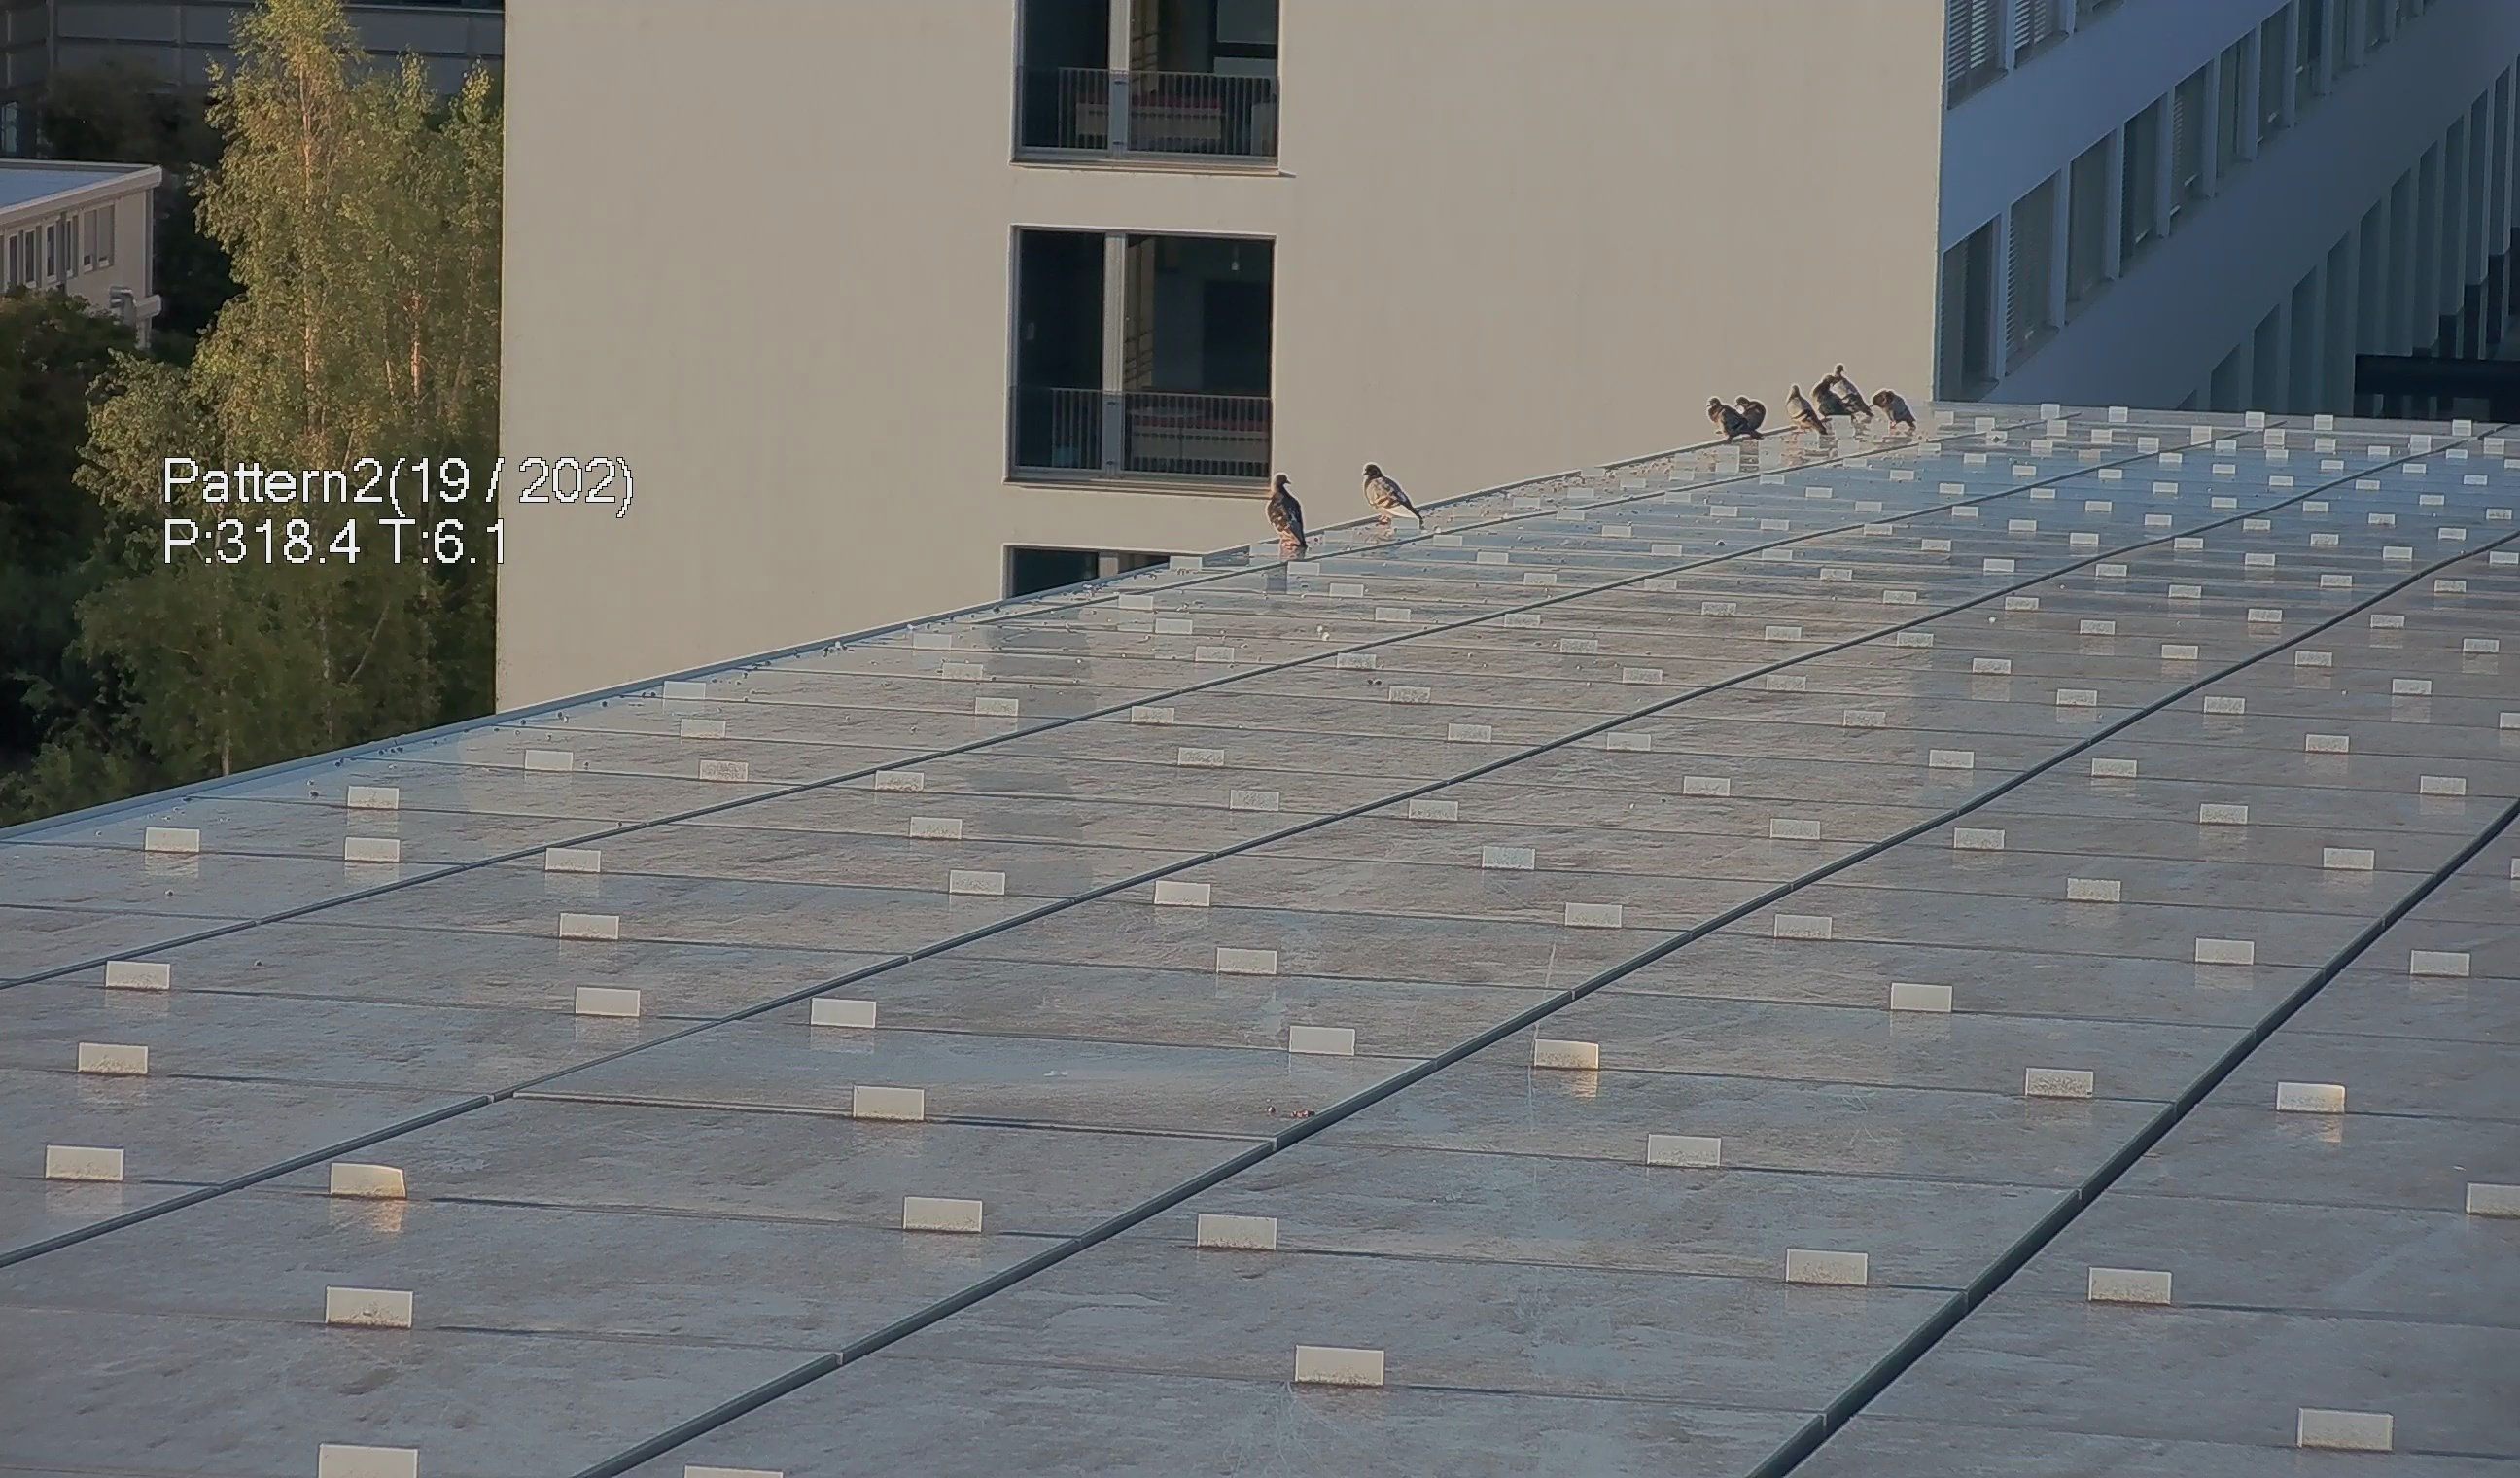Pigeon: (1356, 454, 1440, 542), (1261, 472, 1319, 547), (1706, 392, 1760, 440), (1827, 362, 1869, 413), (1875, 387, 1917, 433), (1783, 387, 1824, 433), (1810, 377, 1852, 419), (1730, 396, 1767, 436)
